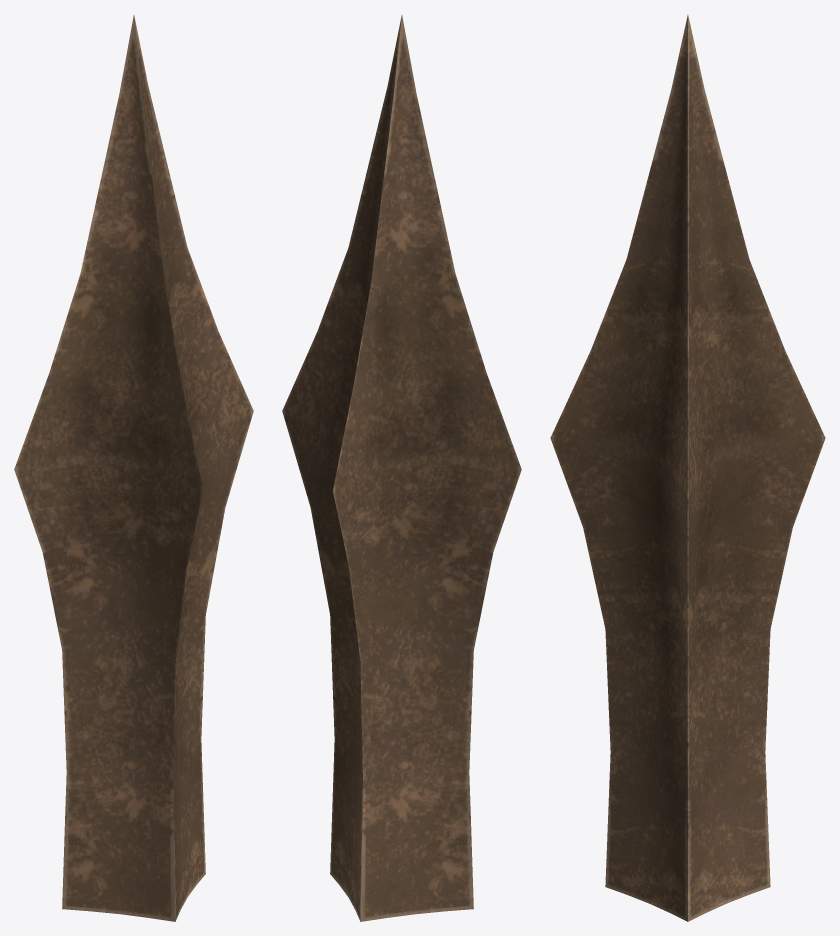
Rendered from dunland_caerdh_spear_head_e.fbx.
3 renders of one model, left to right at view 1: azimuth 30°, elevation 25°; view 2: azimuth 150°, elevation 25°; view 3: azimuth 270°, elevation 25°, orthographic.
Parts seen in each view (by area): view 1: dunland_caerdh_spear_head_e; view 2: dunland_caerdh_spear_head_e; view 3: dunland_caerdh_spear_head_e.
Boxes of the visible parts, <box> form: dunland_caerdh_spear_head_e: <box>14,15,253,921</box>; dunland_caerdh_spear_head_e: <box>282,15,521,921</box>; dunland_caerdh_spear_head_e: <box>550,15,825,921</box>.
Bounding box in the file's own units: 0.1 × 0.1 × 0.35.
Materials: 1 (1 with a texture image).
